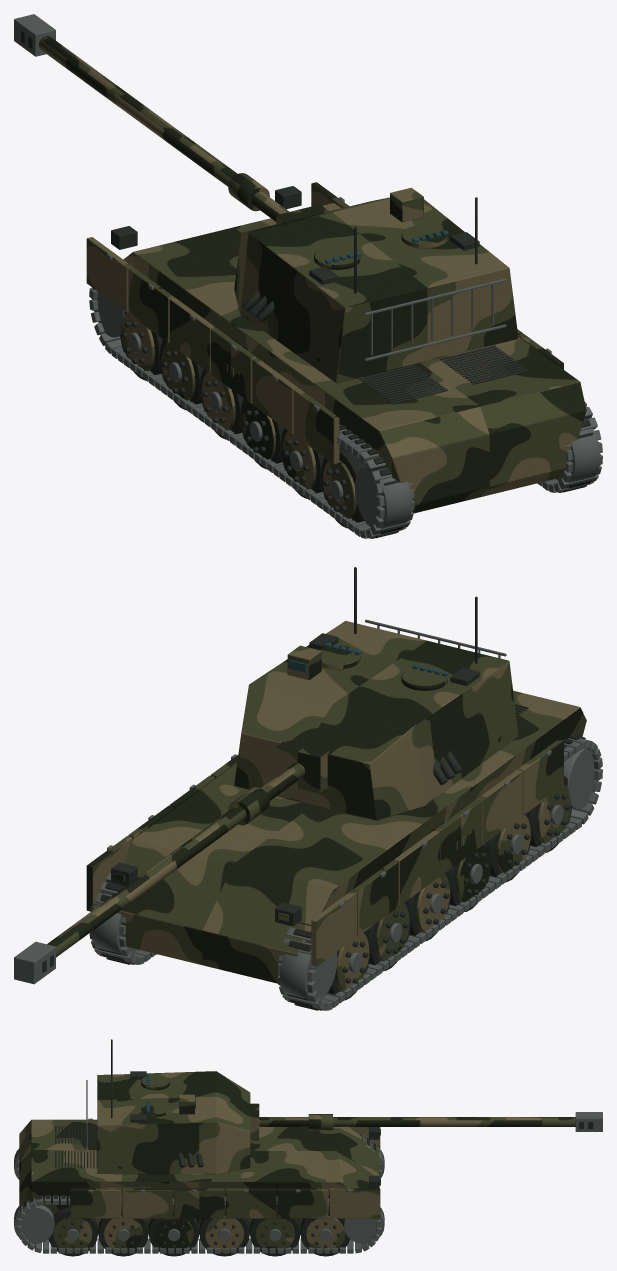
Rendered from k9-surface-refinement.glb.
3 renders of one model, top to bottom at view 1: azimuth 30°, elevation 25°; view 2: azimuth 150°, elevation 25°; view 3: azimuth 270°, elevation 25°, orthographic. The views are drawn at different scales.
Visible parts, largest first — view 1: Hull, Turret, Track_L, Gun, Track_R, Wheel_-1_5, Wheel_-1_3, Wheel_-1_1, Wheel_-1_2, Wheel_-1_4, Wheel_-1_0; view 2: Hull, Turret, Track_L, Gun, Track_R, Wheel_-1_2, Wheel_-1_4, Wheel_-1_3, Wheel_-1_1, Wheel_-1_5, Wheel_-1_0; view 3: Hull, Turret, Track_R, Gun, Wheel_1_5, Wheel_1_2, Wheel_1_1, Wheel_1_3, Wheel_1_4, Wheel_1_0, Track_L.
Boxes of the visible parts, x1,y1,x2,y2 form: Hull: [86, 182, 586, 513]; Turret: [234, 187, 518, 383]; Track_L: [89, 287, 414, 538]; Gun: [14, 14, 329, 224]; Track_R: [537, 401, 602, 492]; Wheel_-1_5: [321, 447, 364, 528]; Wheel_-1_3: [240, 399, 283, 469]; Wheel_-1_1: [160, 339, 203, 410]; Wheel_-1_2: [200, 369, 243, 439]; Wheel_-1_4: [281, 428, 324, 498]; Wheel_-1_0: [120, 311, 162, 380]; Hull: [86, 690, 586, 983]; Turret: [234, 567, 518, 820]; Track_L: [277, 735, 602, 1010]; Gun: [14, 739, 329, 984]; Track_R: [89, 862, 156, 964]; Wheel_-1_2: [408, 871, 451, 941]; Wheel_-1_4: [489, 811, 532, 882]; Wheel_-1_3: [448, 841, 491, 911]; Wheel_-1_1: [367, 900, 411, 970]; Wheel_-1_5: [529, 776, 571, 852]; Wheel_-1_0: [327, 930, 370, 1000]; Hull: [19, 1118, 380, 1234]; Turret: [86, 1039, 250, 1174]; Track_R: [14, 1195, 384, 1253]; Gun: [247, 1103, 602, 1140]; Wheel_1_5: [48, 1207, 97, 1256]; Wheel_1_2: [199, 1207, 249, 1256]; Wheel_1_1: [250, 1207, 300, 1256]; Wheel_1_3: [148, 1207, 199, 1256]; Wheel_1_4: [98, 1207, 148, 1256]; Wheel_1_0: [300, 1207, 350, 1256]; Track_L: [14, 1133, 384, 1179].
Size of the model in its own units: 3.49 by 3.77 by 12.11.
9 materials, 5 textured.
